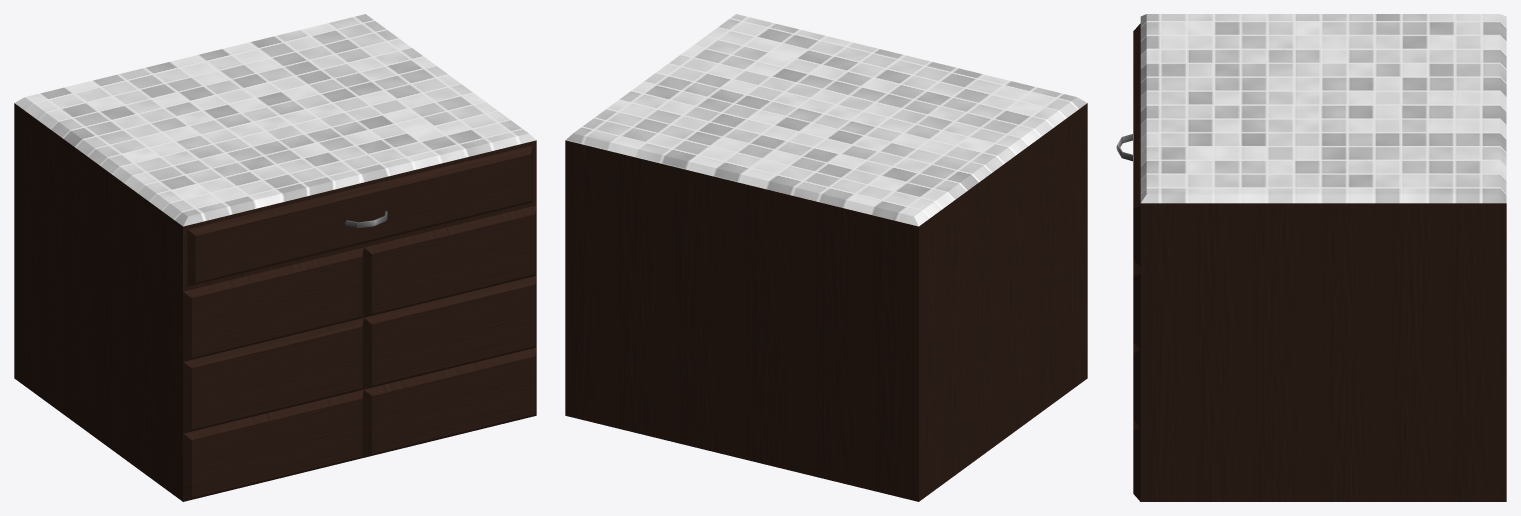
Rendered from Kitchen_Counter_A_2_2.FBX.
3 views of the same model, side by side, from view 1: azimuth 30°, elevation 25°; view 2: azimuth 150°, elevation 25°; view 3: azimuth 270°, elevation 25° (orthographic). The views are drawn at different scales.
Parts seen in each view (by area): view 1: Counter_A_2; view 2: Counter_A_2; view 3: Counter_A_2.
Boxes of the visible parts, x1,y1,x2,y2 form: Counter_A_2: (14, 14, 536, 501); Counter_A_2: (565, 14, 1087, 501); Counter_A_2: (1116, 14, 1506, 501).
Bounding box in the file's own units: 181 × 138 × 160.
